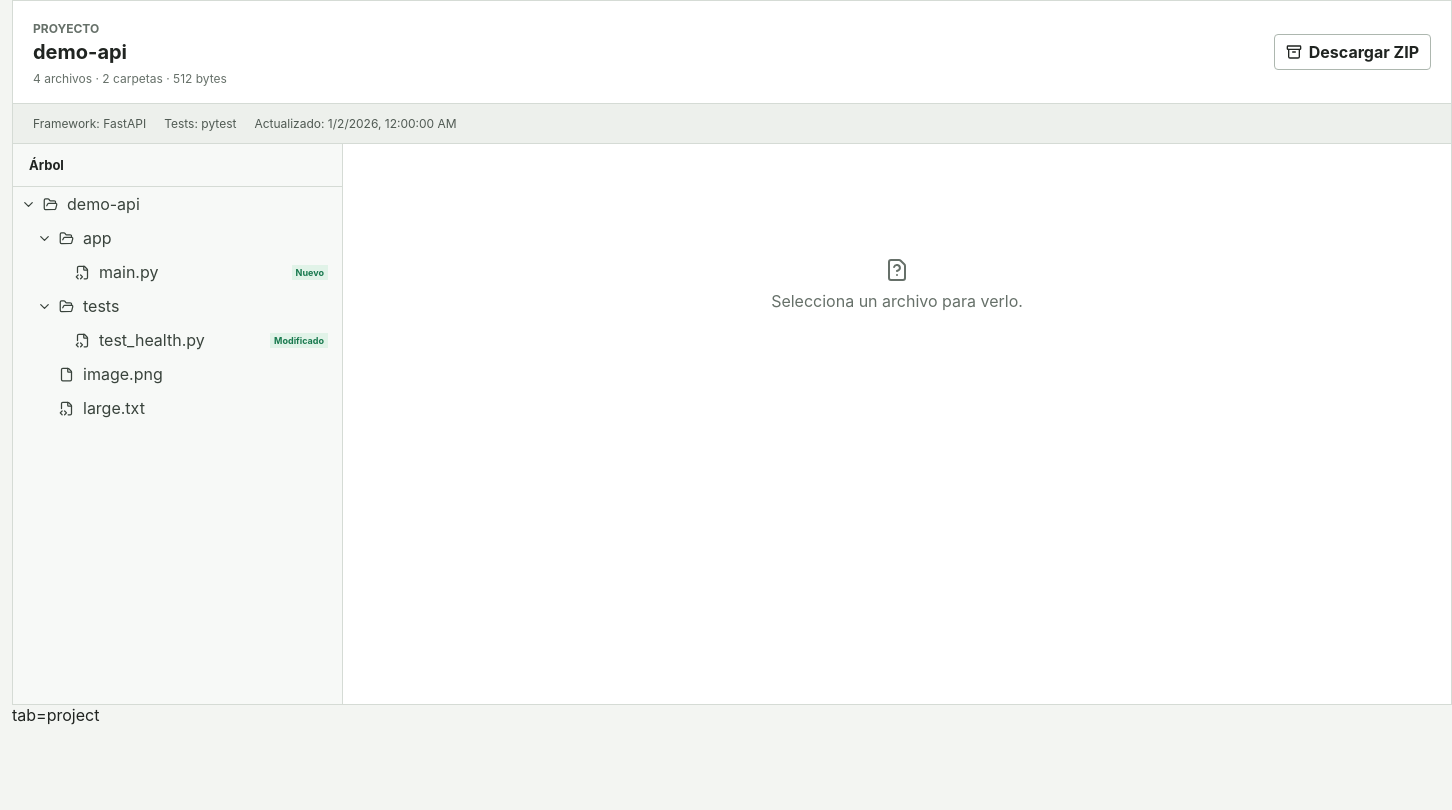
Test: ProjectExplorer › directories collapse and expand
Click the button "app" at (44, 238), box [13,221,342,255]
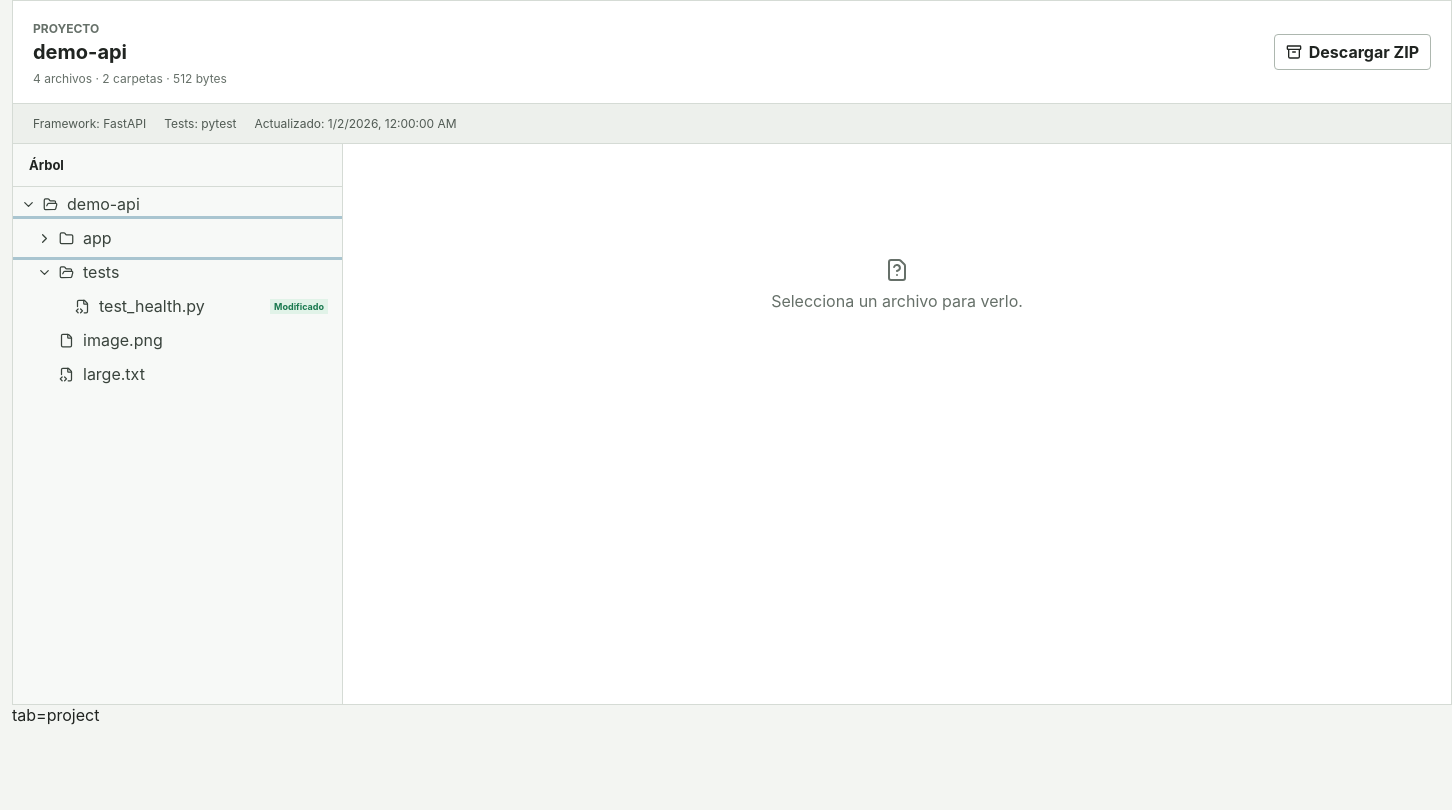
Result: the button "main.py" is gone
Click the button "app" at (44, 238), box [13,221,342,255]
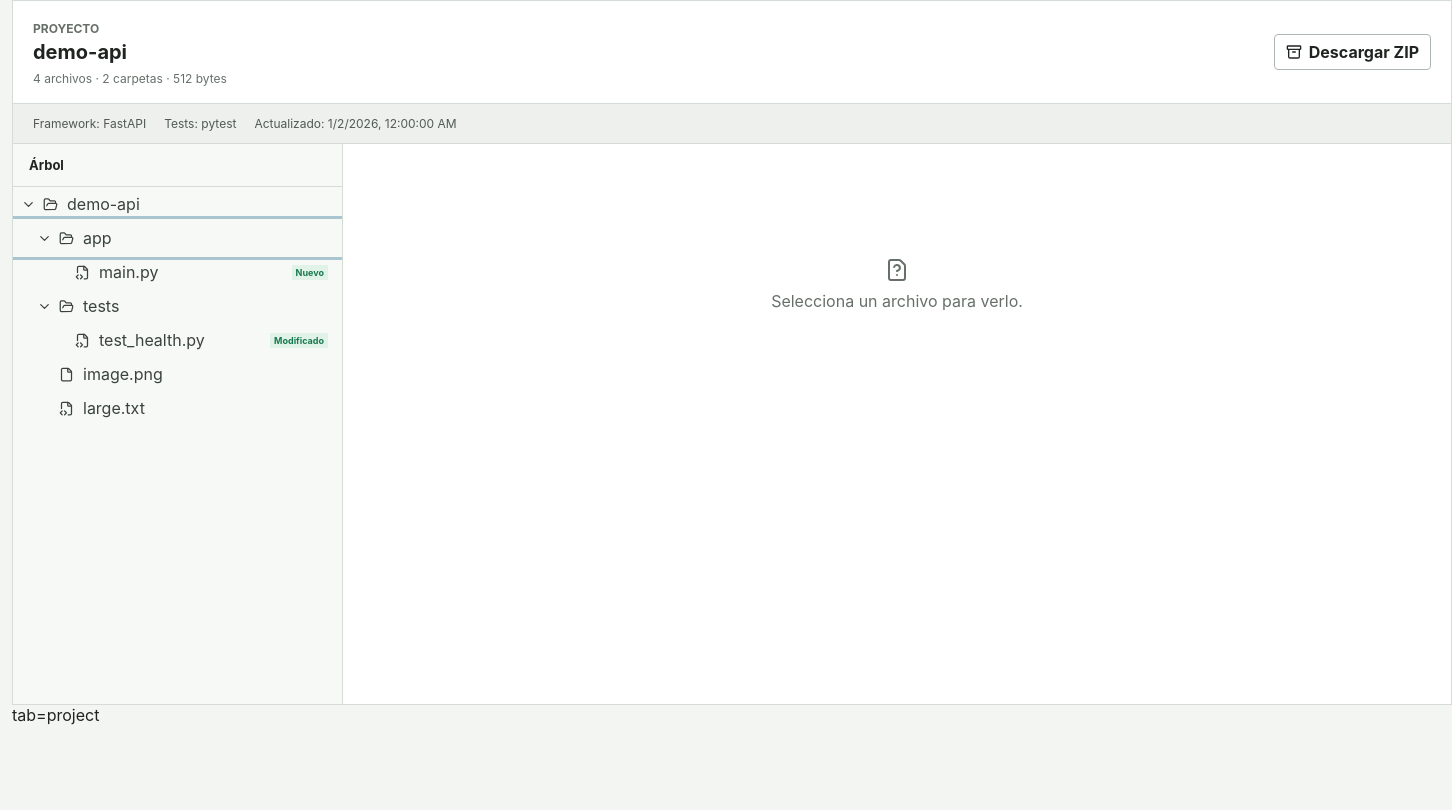
Result: the text "main.py" is shown at [99,262,158,282]
